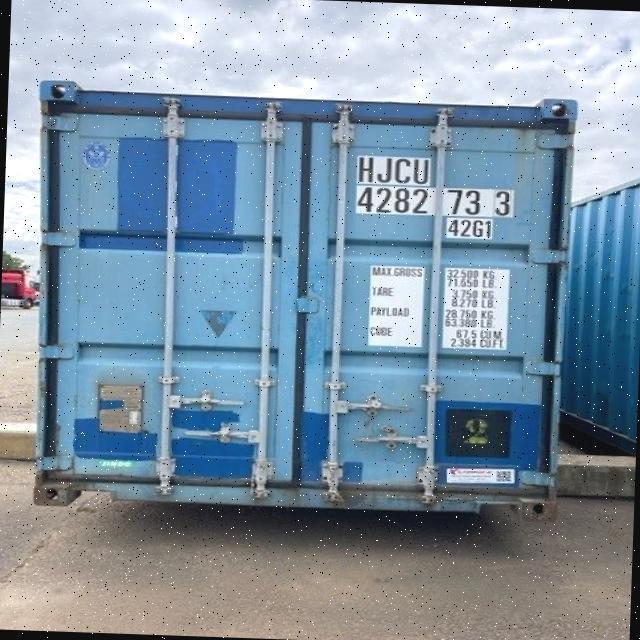le-tle-t-tletters: (350, 144, 536, 217)
